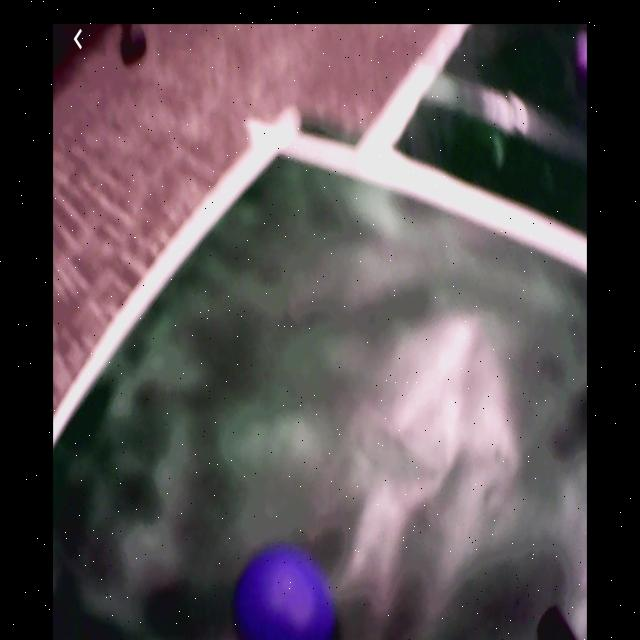ball: (238, 547, 335, 640), (579, 33, 588, 68)
